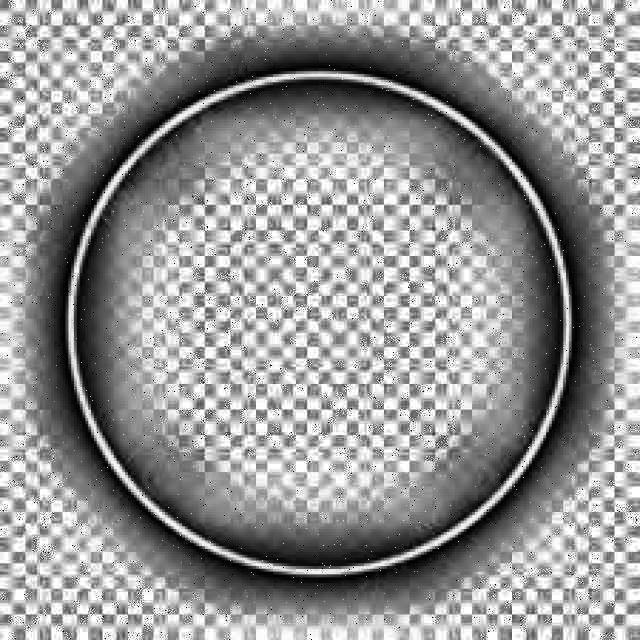Circle: (53, 63, 573, 583)
